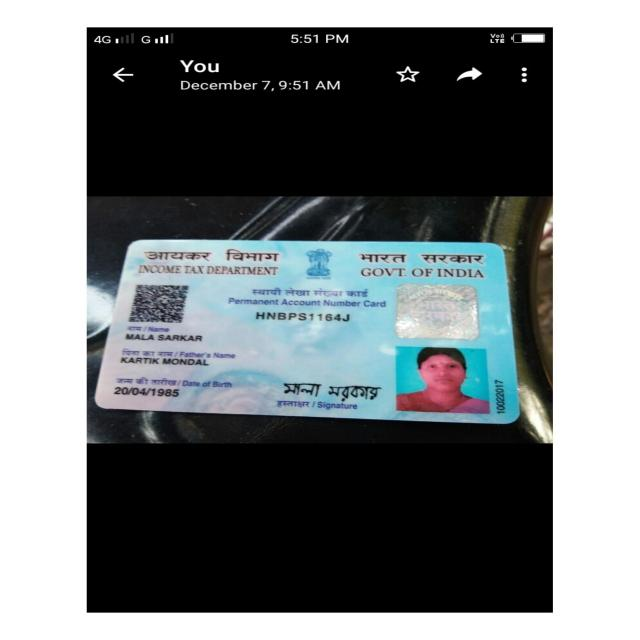pan_card: (94, 241, 514, 422)
